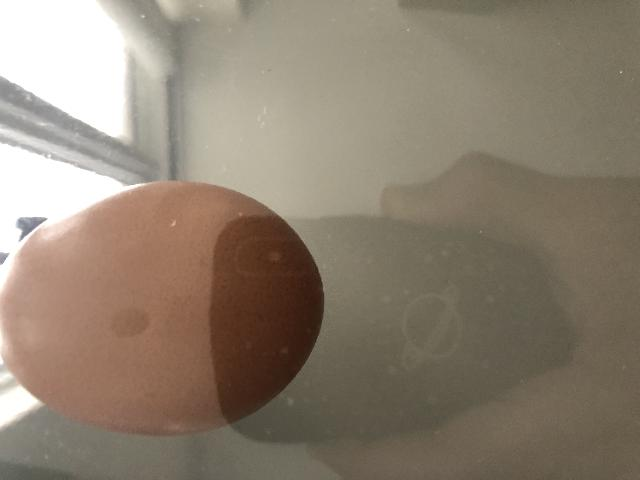Sano: (1, 178, 326, 437)
